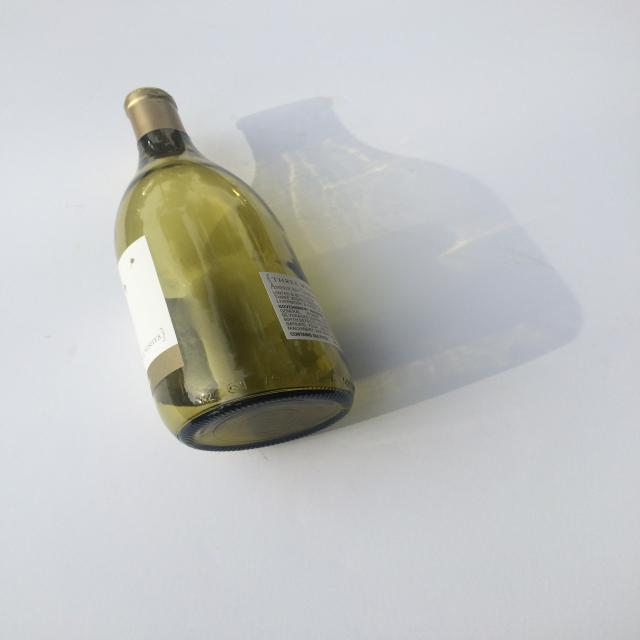glass: (110, 86, 358, 453)
